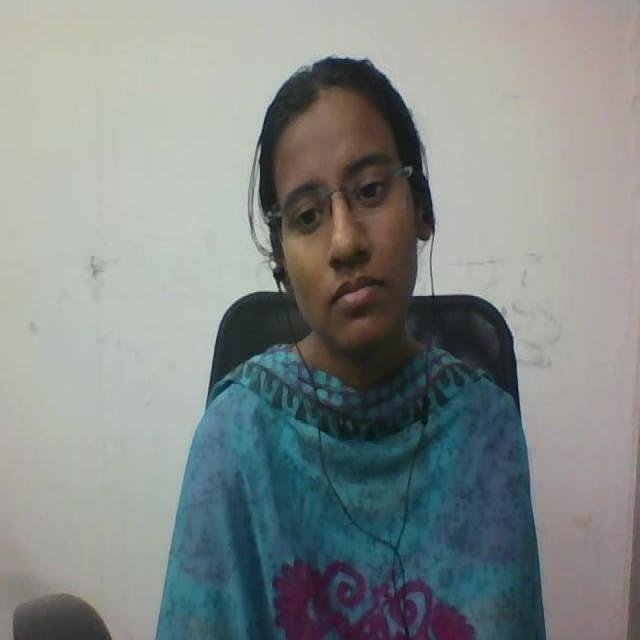Engaged: (214, 46, 474, 383)
